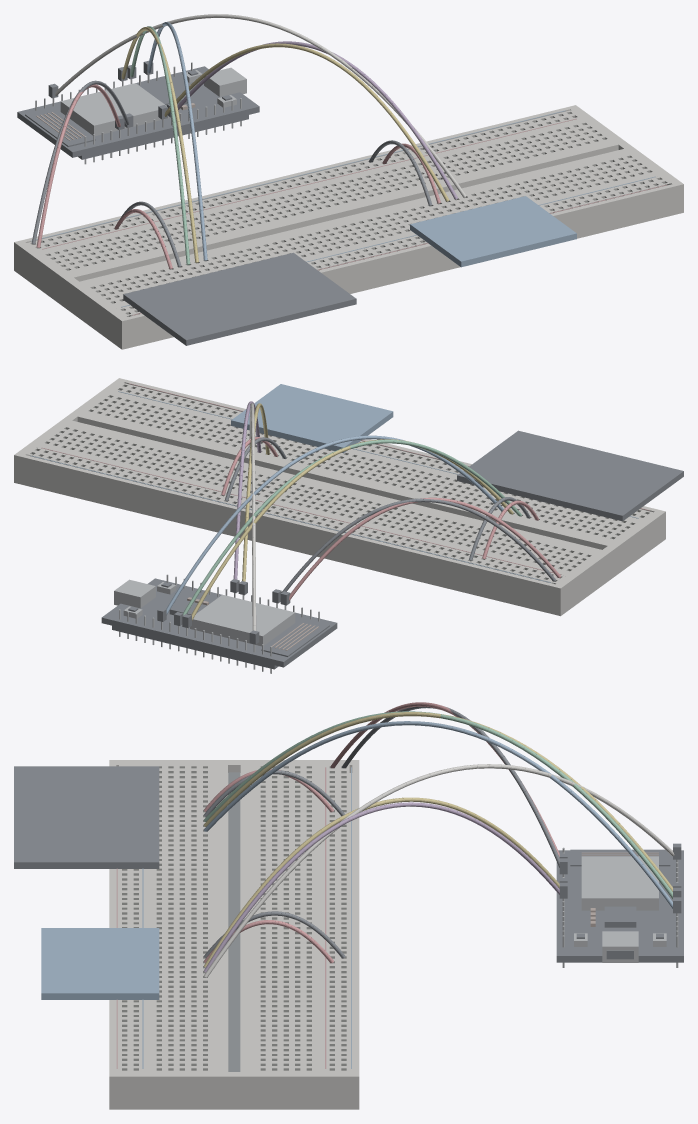
3 renders of one model, top to bottom at view 1: azimuth 30°, elevation 25°; view 2: azimuth 150°, elevation 25°; view 3: azimuth 270°, elevation 25°, orthographic. The views are drawn at different scales.
Visible parts, largest first — view 1: breadboard__mesh, matrix__mesh, uno__mesh, joystick__mesh, joystick_switch__mesh, joystick_x__mesh, matrix_clock__mesh, joystick_y__mesh, matrix_select__mesh, matrix_data__mesh, power_supply__mesh, ground_supply__mesh; view 2: breadboard__mesh, uno__mesh, matrix__mesh, joystick__mesh, matrix_clock__mesh, matrix_data__mesh, ground_supply__mesh, matrix_select__mesh, power_supply__mesh, joystick_switch__mesh, joystick_y__mesh, joystick_x__mesh; view 3: breadboard__mesh, matrix__mesh, uno__mesh, joystick__mesh, matrix_clock__mesh, joystick_switch__mesh, joystick_y__mesh, matrix_data__mesh, matrix_select__mesh, joystick_x__mesh, ground_supply__mesh, power_supply__mesh (+2 smaller).
Part boxes in pixels (bbox=[...]): breadboard__mesh: bbox=[14, 105, 683, 349]; matrix__mesh: bbox=[123, 252, 356, 345]; uno__mesh: bbox=[17, 62, 259, 164]; joystick__mesh: bbox=[410, 196, 576, 267]; joystick_switch__mesh: bbox=[48, 14, 466, 197]; joystick_x__mesh: bbox=[158, 43, 449, 201]; matrix_clock__mesh: bbox=[143, 22, 207, 260]; joystick_y__mesh: bbox=[167, 41, 457, 199]; matrix_select__mesh: bbox=[118, 27, 198, 262]; matrix_data__mesh: bbox=[127, 26, 190, 264]; power_supply__mesh: bbox=[36, 84, 124, 247]; ground_supply__mesh: bbox=[31, 80, 133, 244]; breadboard__mesh: bbox=[14, 378, 665, 616]; uno__mesh: bbox=[101, 574, 337, 673]; matrix__mesh: bbox=[457, 430, 683, 521]; joystick__mesh: bbox=[231, 384, 393, 453]; matrix_clock__mesh: bbox=[157, 435, 503, 621]; matrix_data__mesh: bbox=[174, 439, 521, 625]; ground_supply__mesh: bbox=[272, 498, 555, 603]; matrix_select__mesh: bbox=[182, 439, 513, 628]; power_supply__mesh: bbox=[280, 497, 560, 605]; joystick_switch__mesh: bbox=[249, 403, 259, 644]; joystick_y__mesh: bbox=[230, 401, 261, 592]; joystick_x__mesh: bbox=[238, 403, 269, 595]; breadboard__mesh: bbox=[109, 760, 359, 1109]; matrix__mesh: bbox=[14, 766, 159, 868]; uno__mesh: bbox=[556, 847, 683, 967]; joystick__mesh: bbox=[41, 928, 159, 999]; matrix_clock__mesh: bbox=[203, 721, 681, 913]; joystick_switch__mesh: bbox=[204, 764, 681, 977]; joystick_y__mesh: bbox=[204, 802, 567, 972]; matrix_data__mesh: bbox=[204, 711, 681, 898]; matrix_select__mesh: bbox=[204, 712, 681, 891]; joystick_x__mesh: bbox=[204, 797, 567, 967]; ground_supply__mesh: bbox=[342, 706, 567, 874]; power_supply__mesh: bbox=[330, 702, 567, 858].
Size of the model in its own units: 0.165 by 0.044 by 0.1475.
